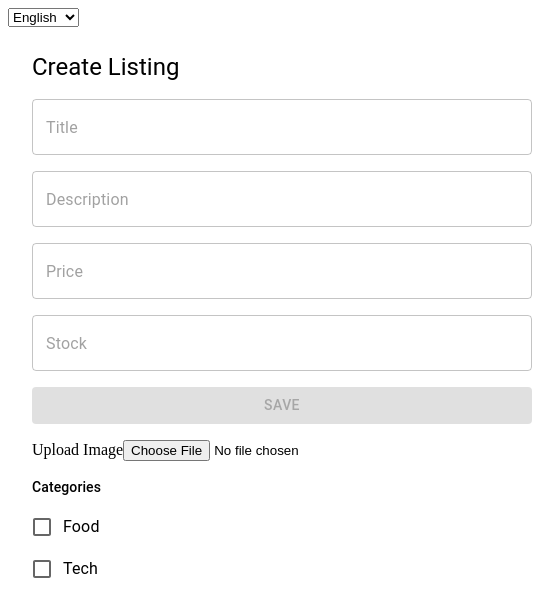
it: CreateListing Spanish › Create Listing
The width and height of the screenshot is (549, 595).
Select "Spanish" in the dropdown at (44, 18), box left=8, top=8, right=79, bottom=27
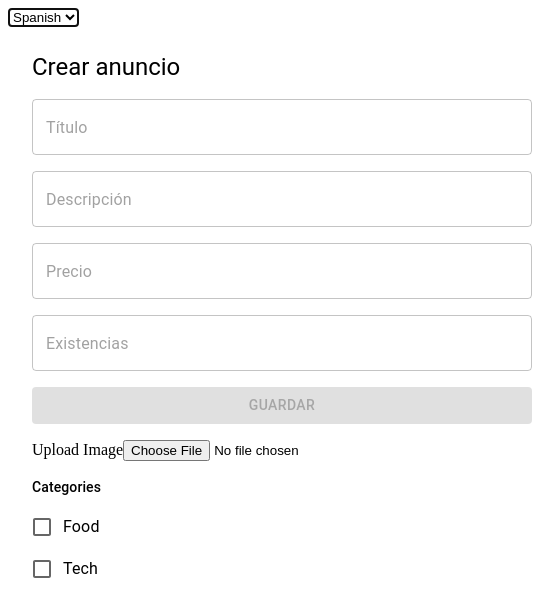
Check: the heading "Crear anuncio" is shown, box left=32, top=53, right=180, bottom=81
